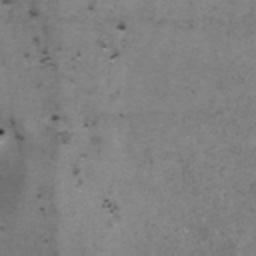Oxide scale of temperature system: (0, 115, 47, 233), (99, 20, 127, 60), (23, 36, 51, 64), (50, 114, 70, 145), (3, 0, 38, 17), (99, 197, 122, 215), (70, 163, 82, 178), (87, 3, 97, 13), (42, 237, 52, 246)
